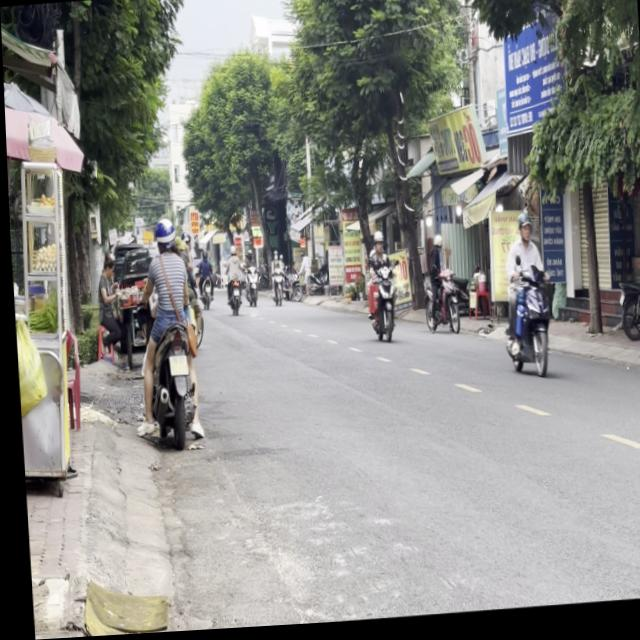helmet: (151, 218, 174, 253), (513, 215, 530, 248)
licenseplate: (126, 214, 205, 452), (494, 210, 555, 386)
nohelmet: (165, 355, 183, 375)
